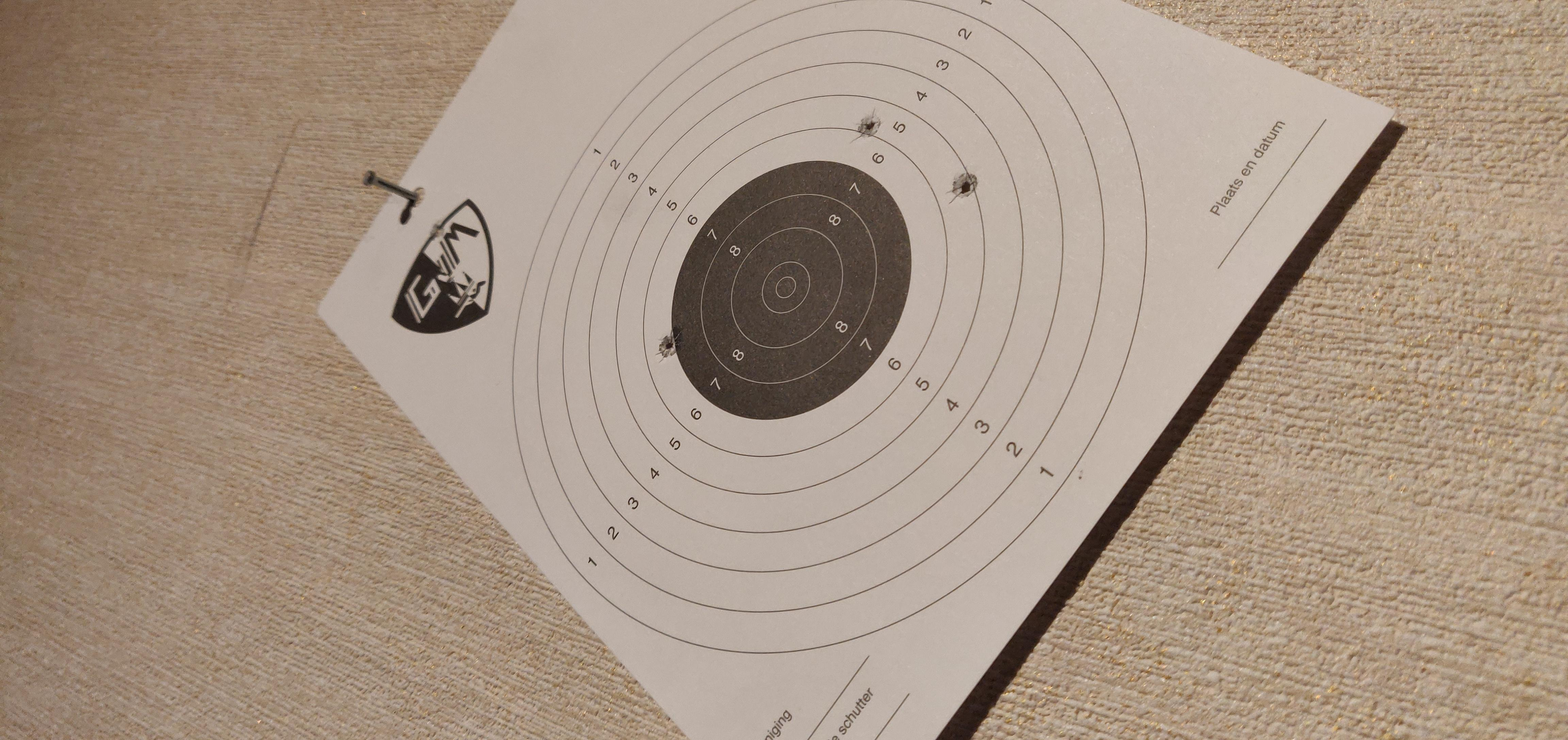hole: (1137, 446, 1214, 462), (1269, 402, 1340, 417), (801, 309, 874, 323)
